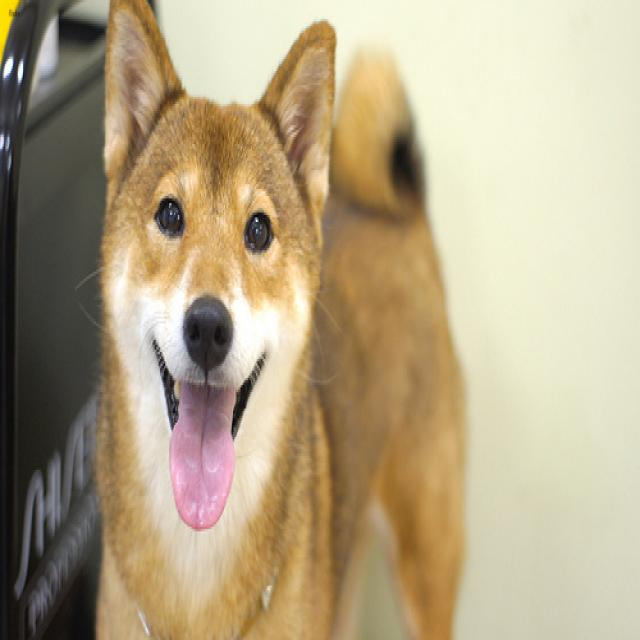dog-shiba_inu: (83, 2, 476, 635)
